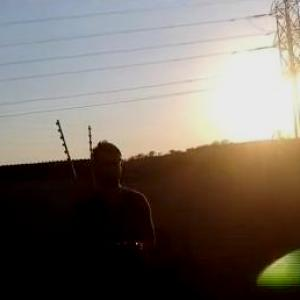follow: (73, 131, 165, 299)
